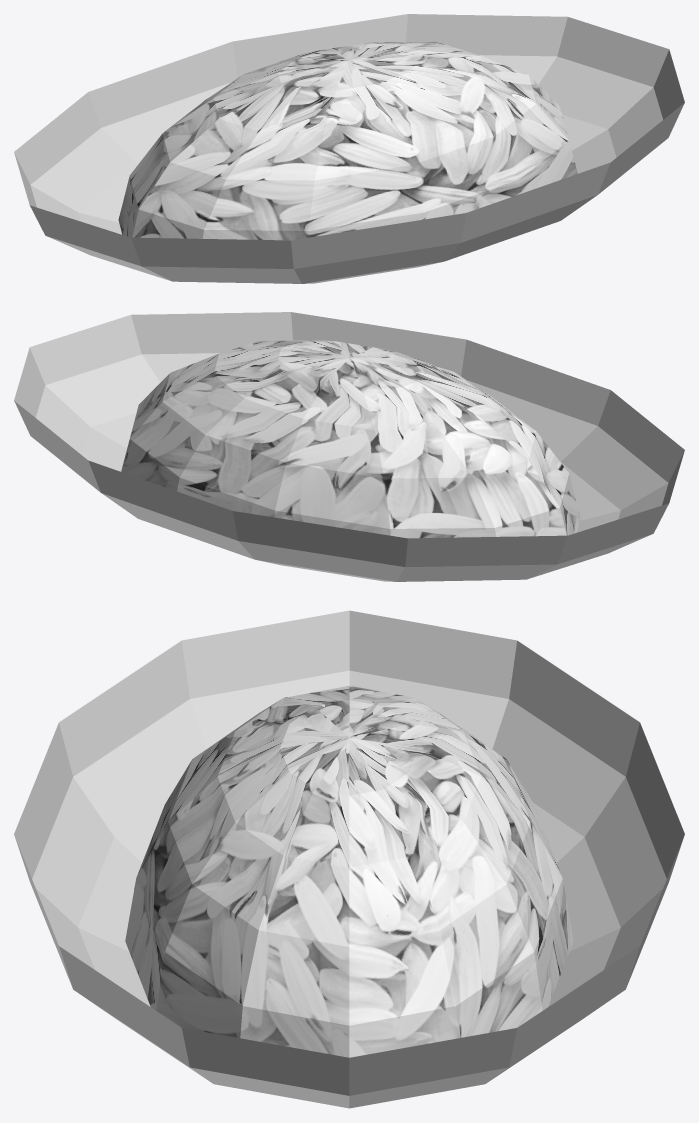
File: NasgorGoreng.glb
3 views of the same model, one above another, from view 1: azimuth 30°, elevation 25°; view 2: azimuth 150°, elevation 25°; view 3: azimuth 270°, elevation 25° (orthographic). The views are drawn at different scales.
Parts seen in each view (by area): view 1: Sphere; view 2: Sphere; view 3: Sphere.
Boxes of the visible parts, bbox=[...] form: Sphere: bbox=[14, 14, 684, 283]; Sphere: bbox=[14, 312, 684, 581]; Sphere: bbox=[14, 610, 684, 1108].
Bounding box in the file's own units: 0.3687 × 0.098 × 0.2337.
Materials: 2 (1 with a texture image).
